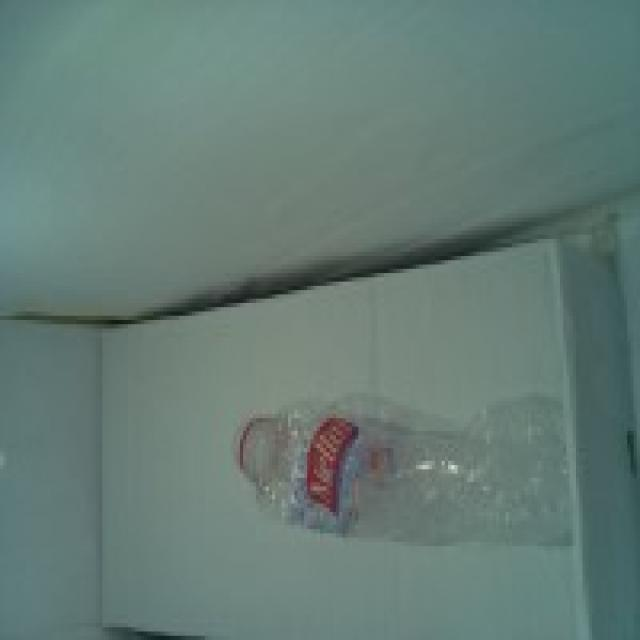Anorganik: (224, 392, 579, 559)
